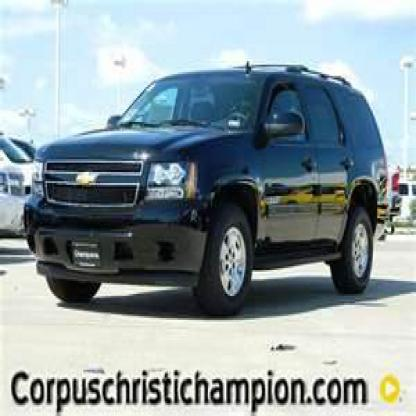Vehicle: (25, 63, 395, 325)
